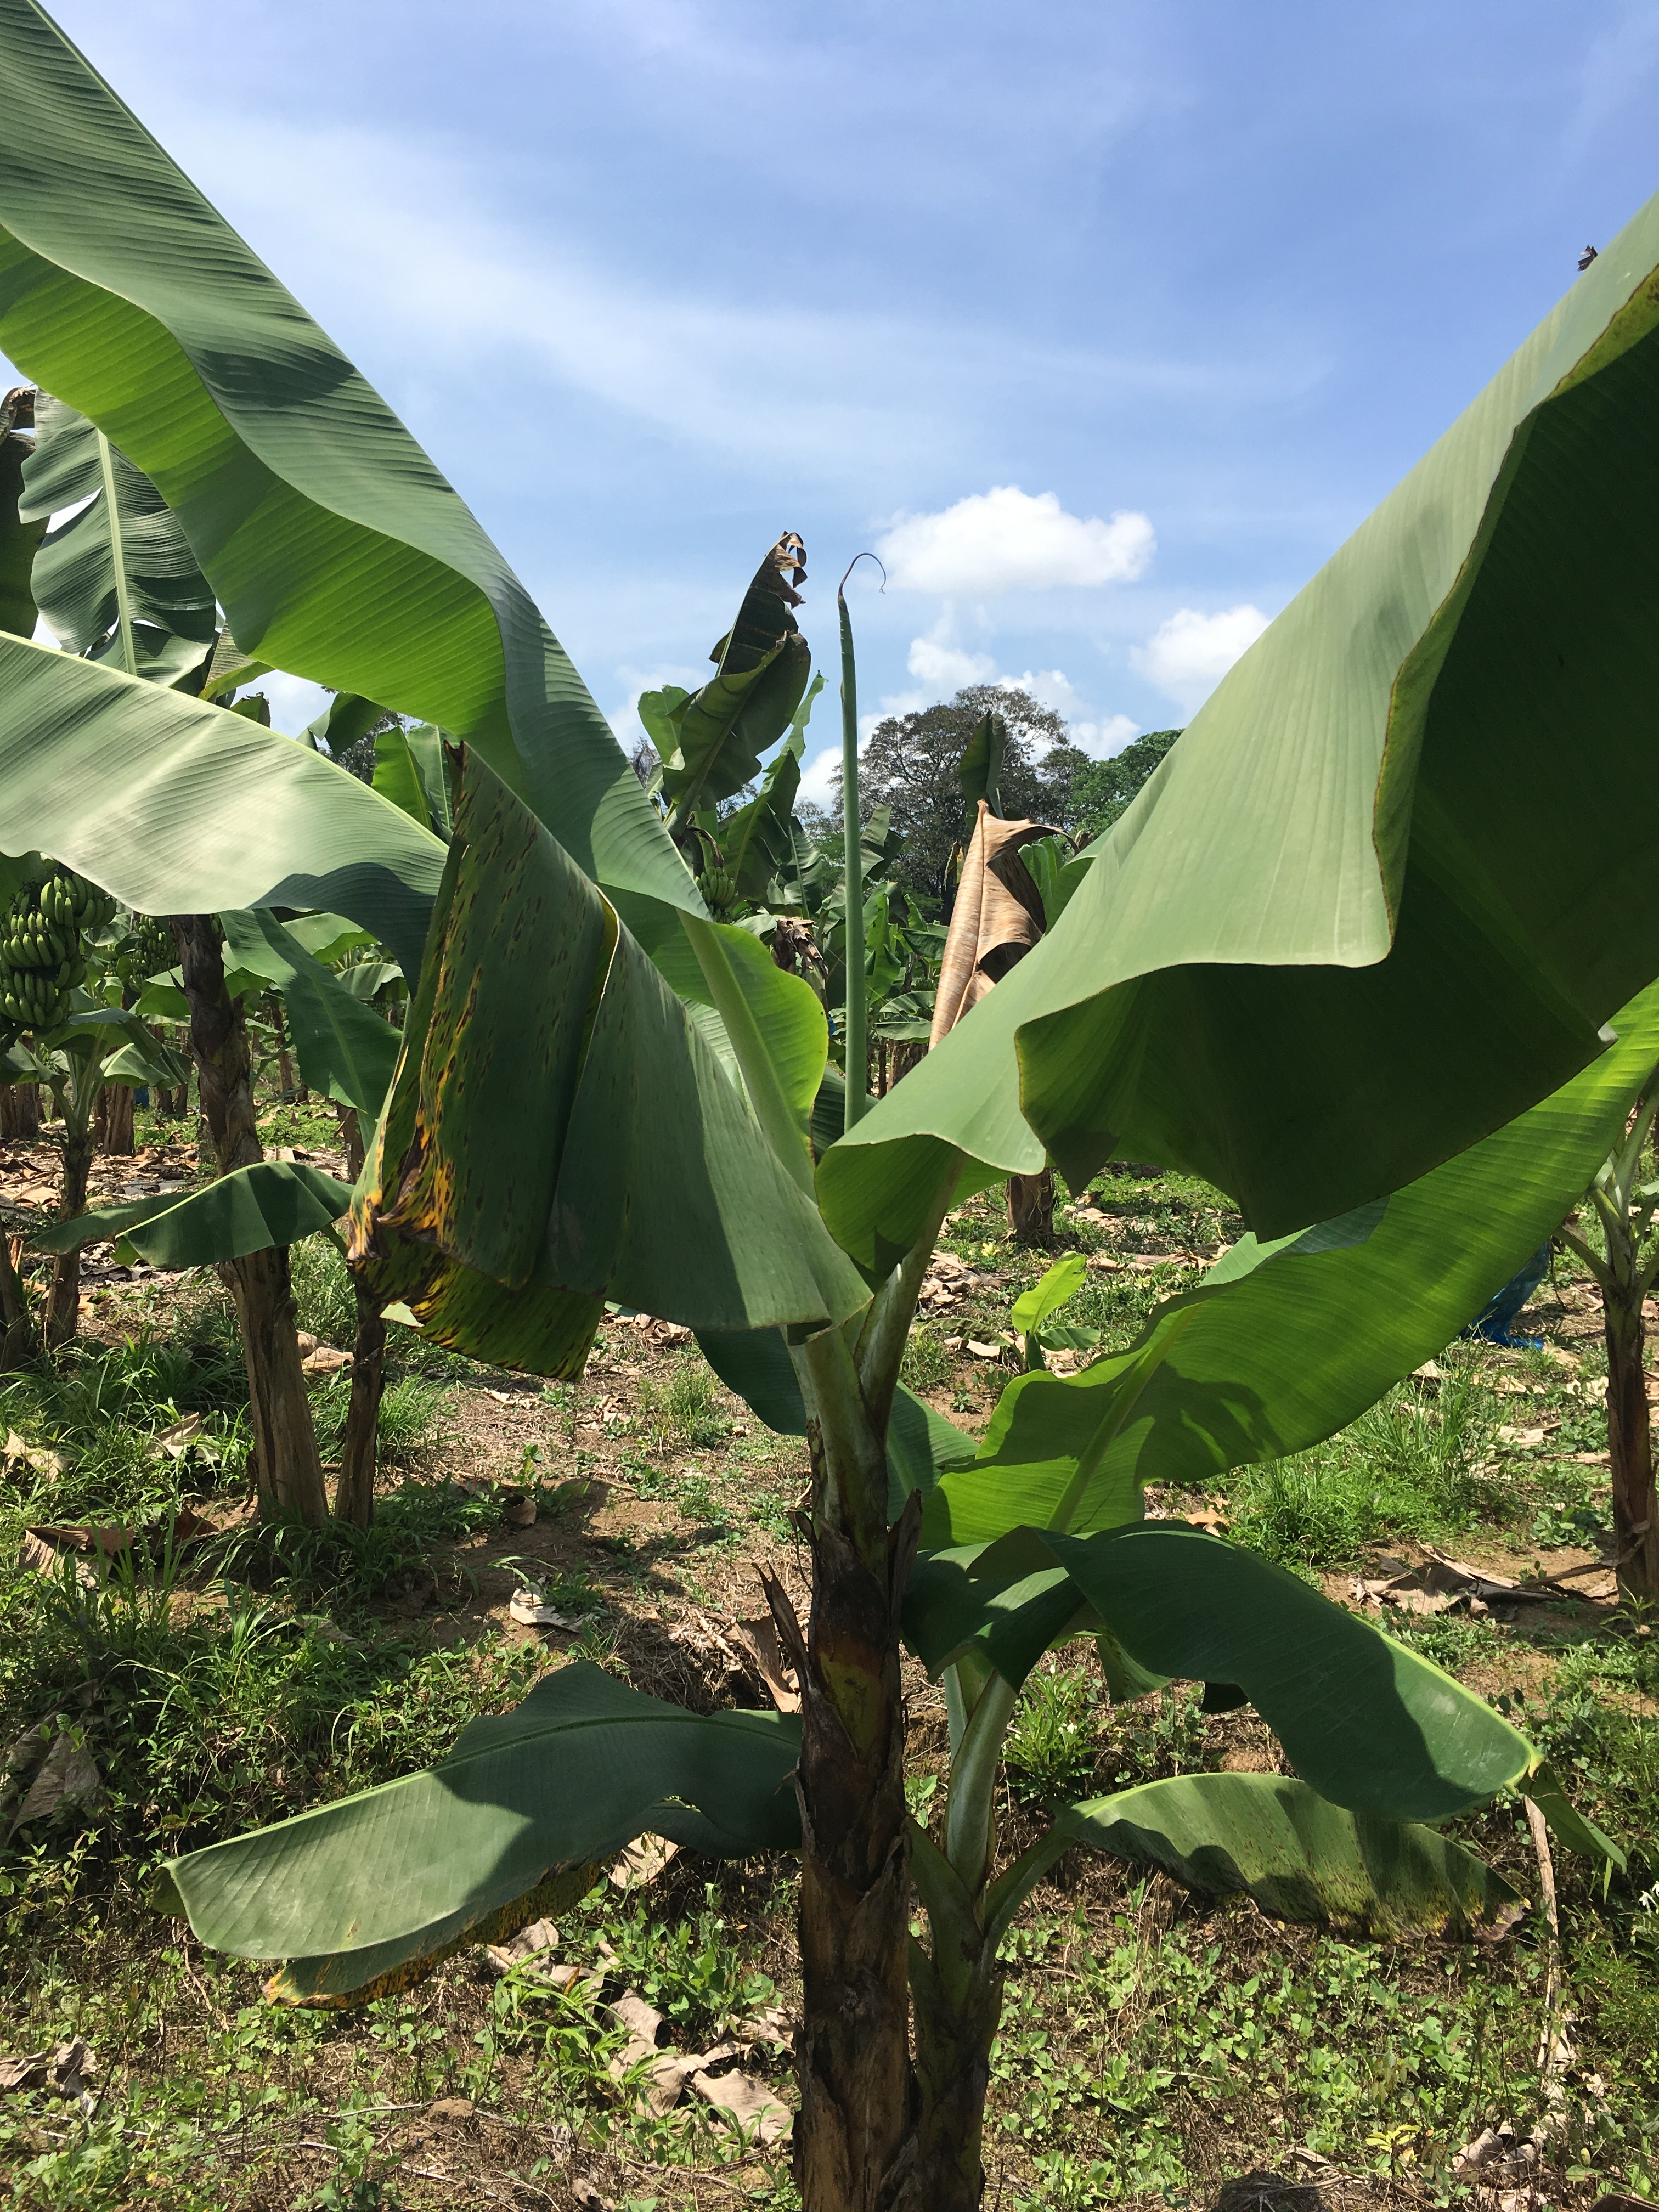candleleafs: (833, 552, 897, 1099)
